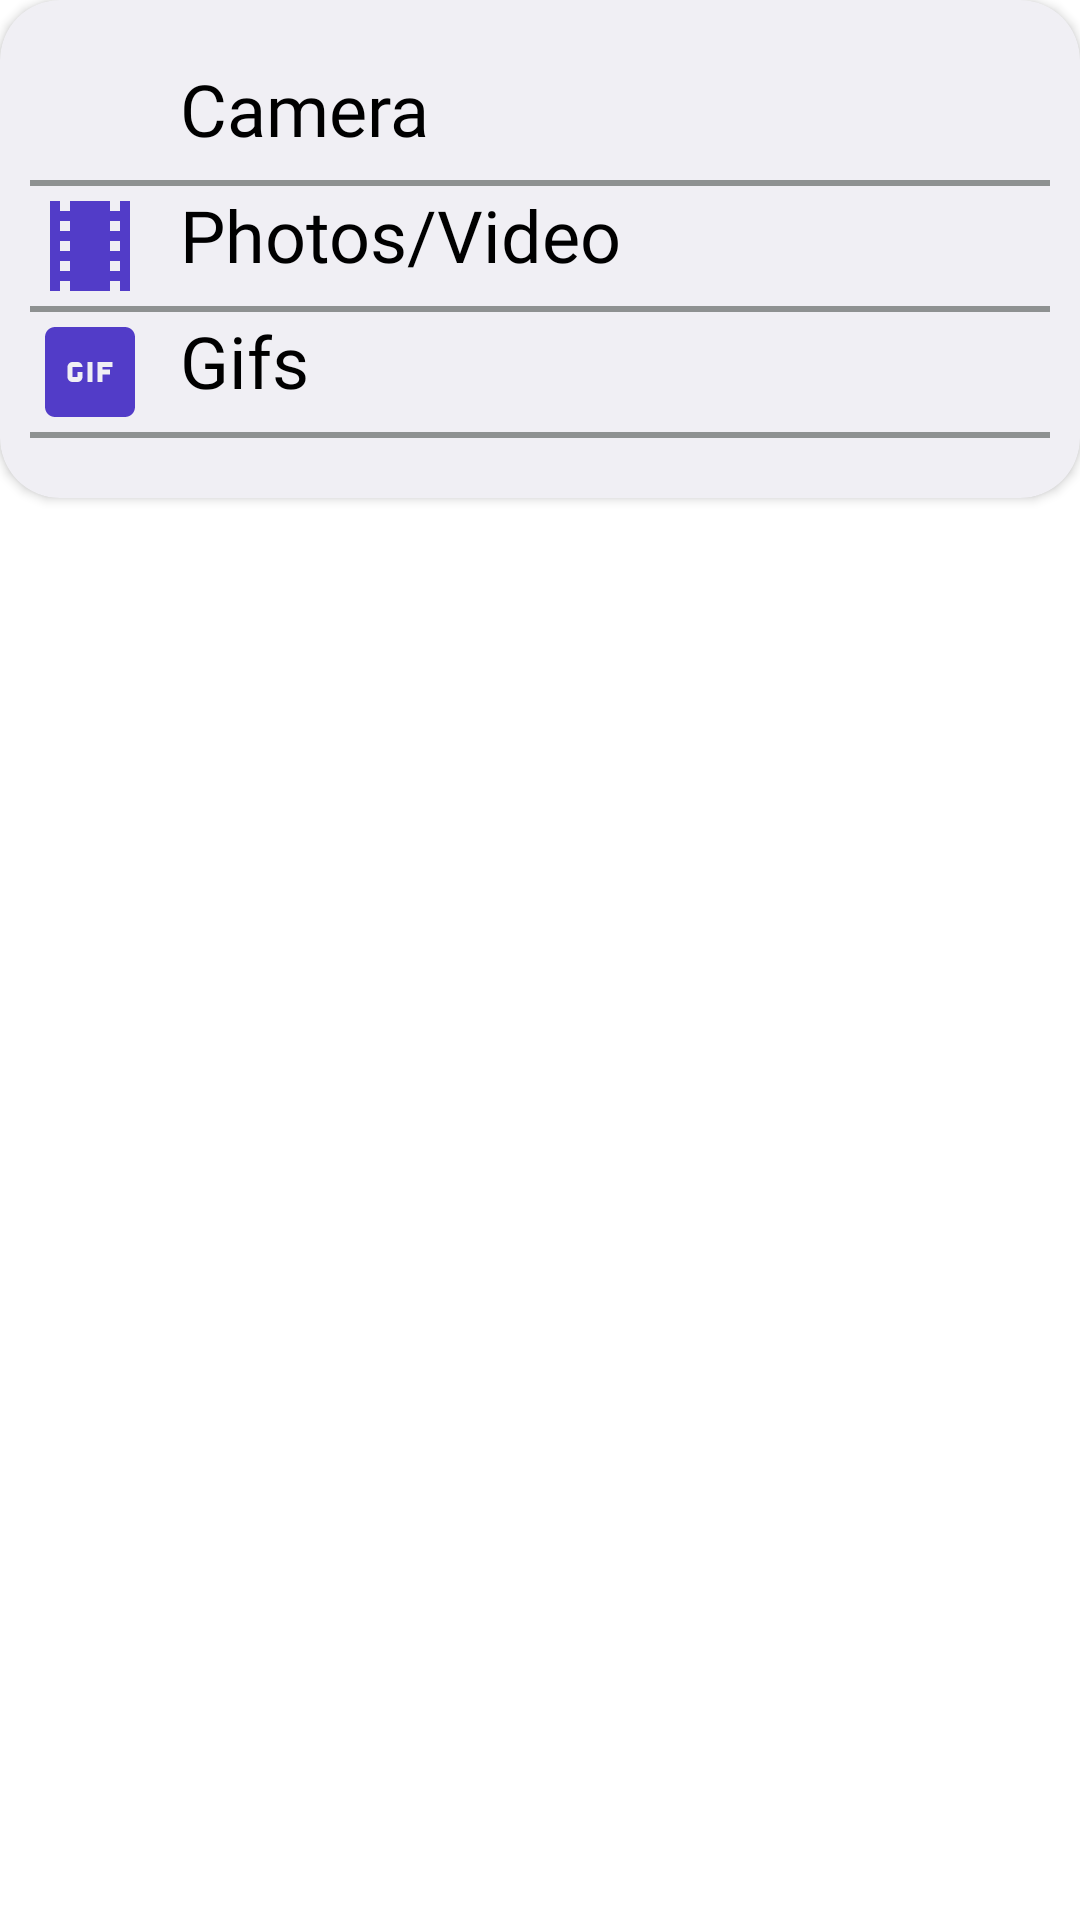

Screen size 1080w x 1920h. Icon name, then its center in pixels as point (x, y):
movie: point (90, 246)
